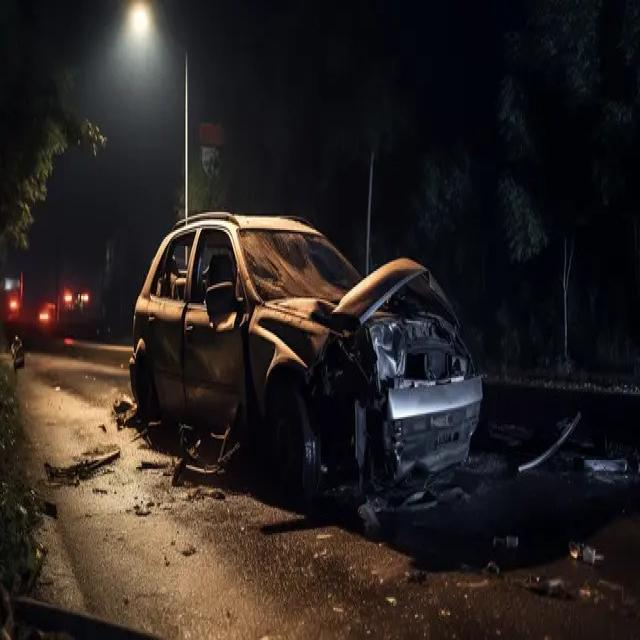Accident: (126, 212, 483, 537)
